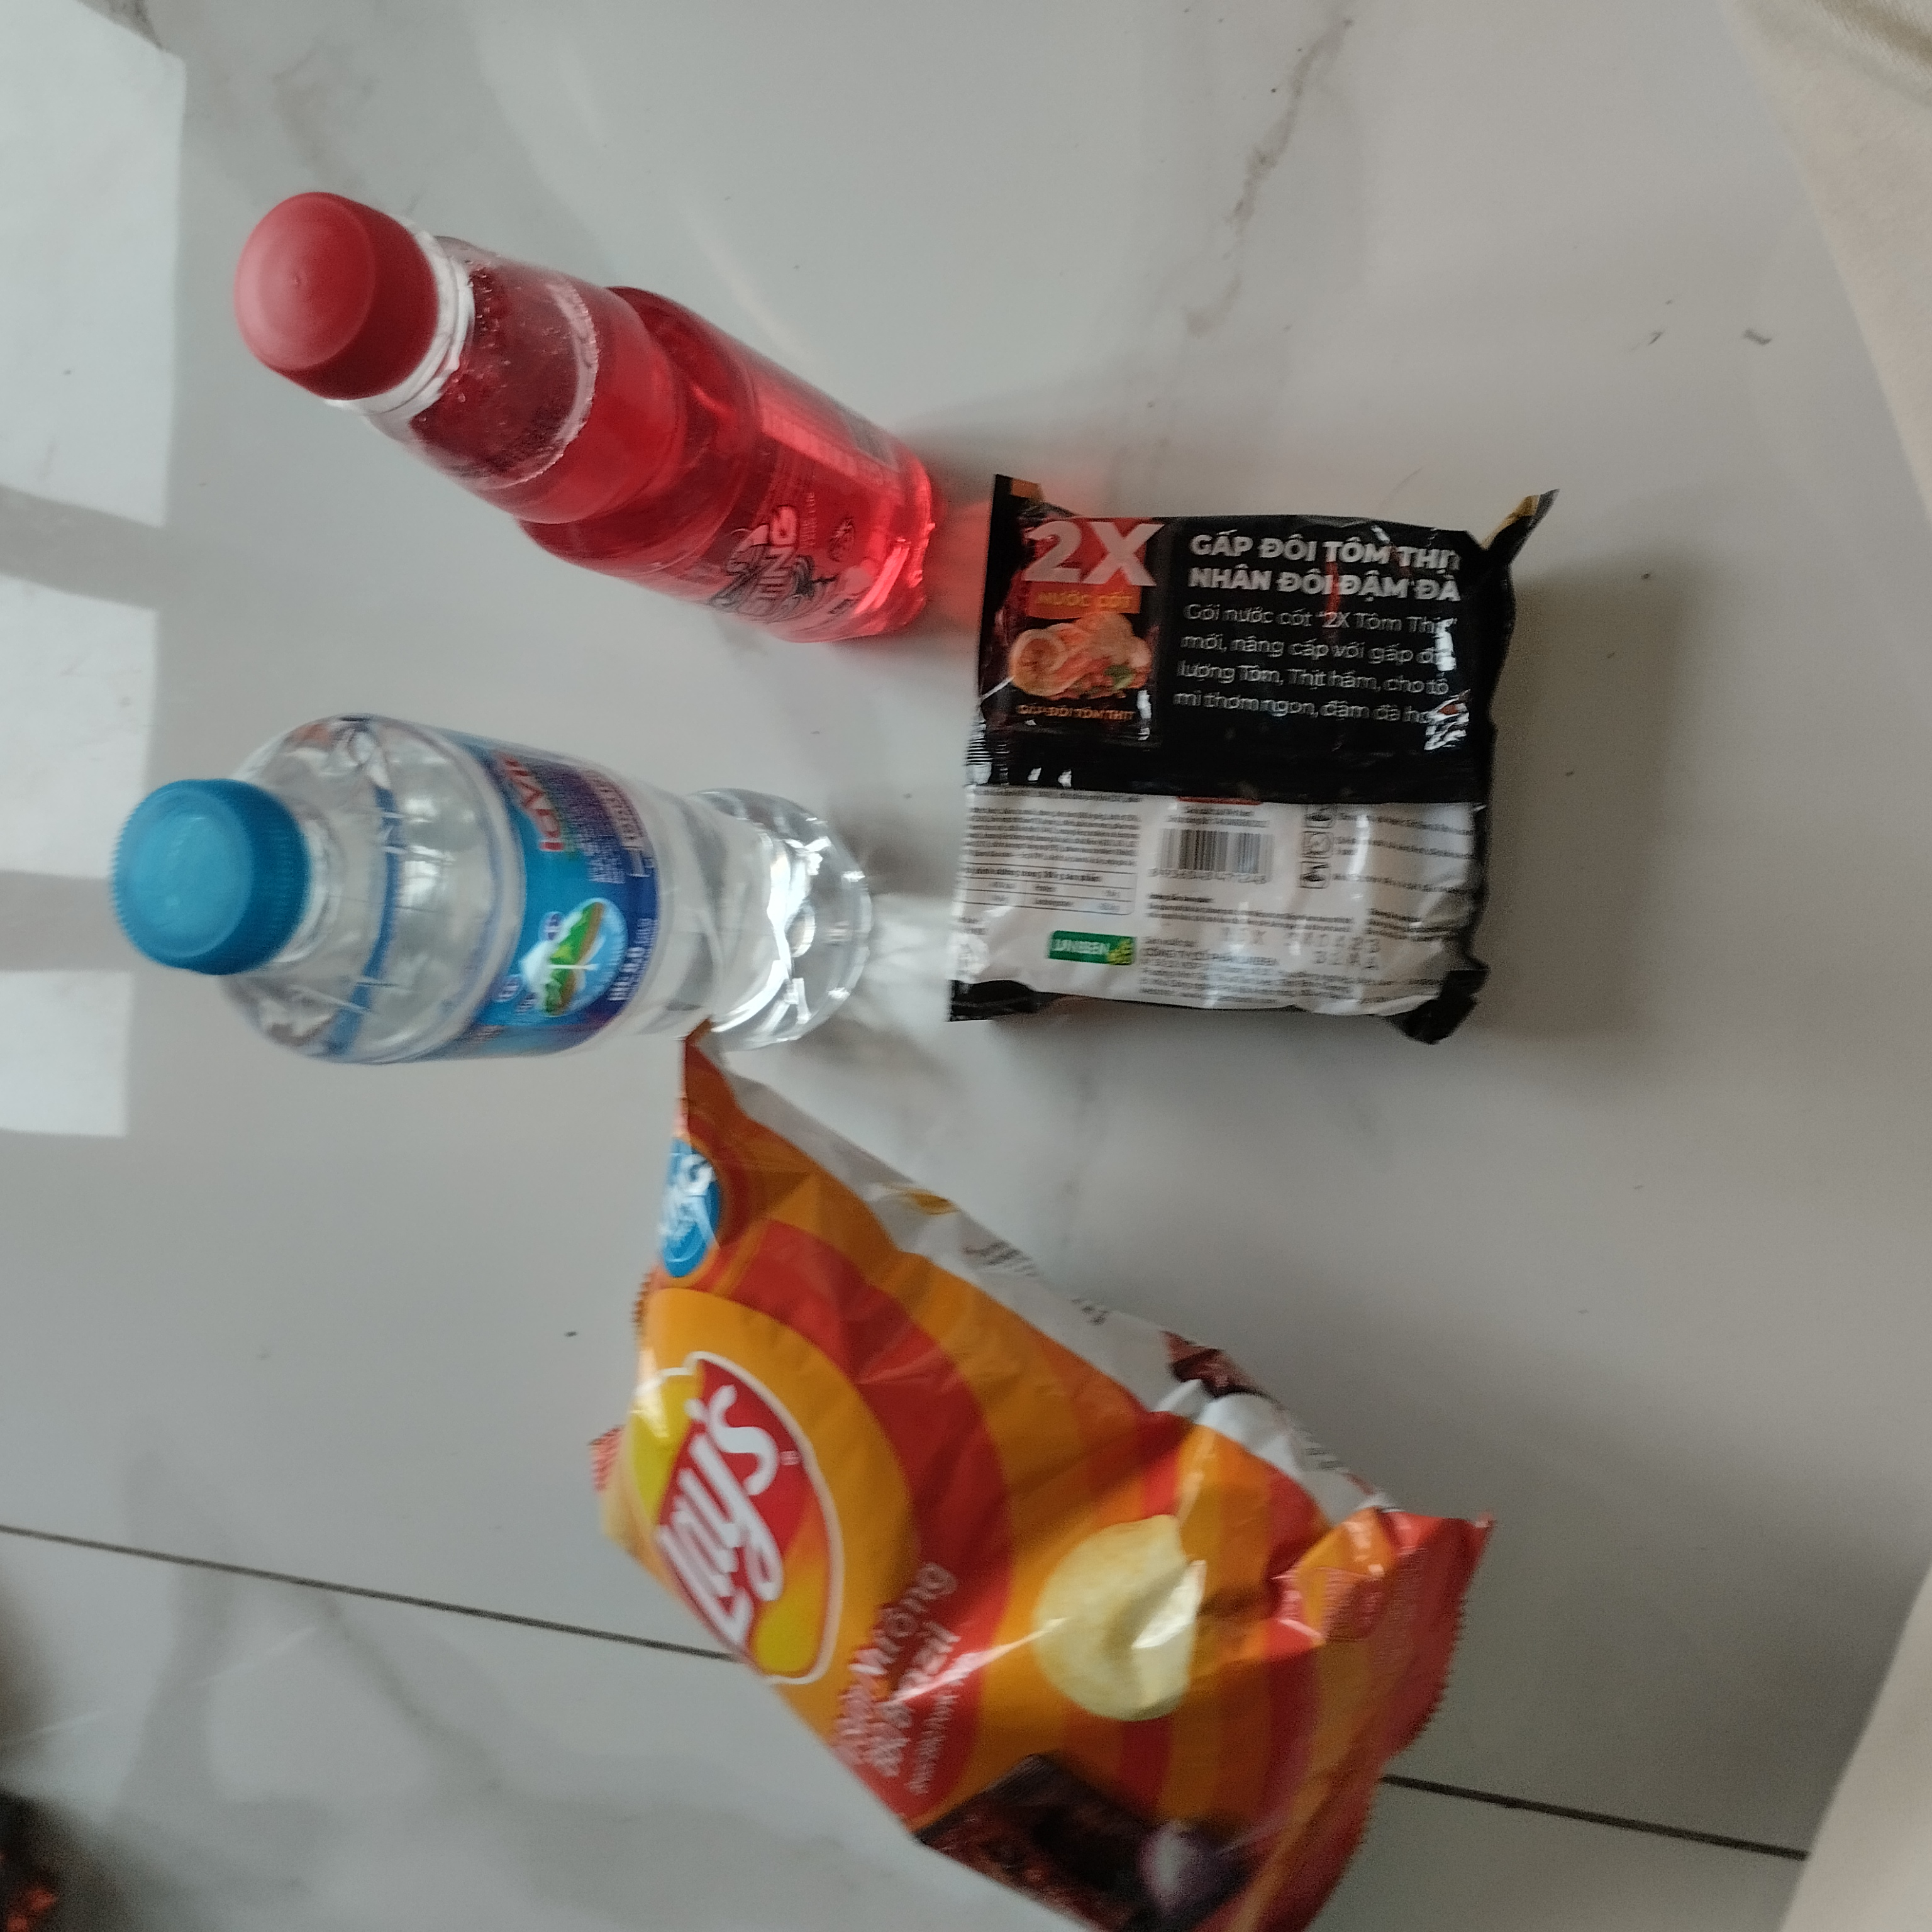3mien: (927, 469, 1559, 1040)
Lavie: (97, 715, 888, 1074)
Lays: (589, 1019, 1507, 1930)
Sting: (226, 189, 941, 651)
